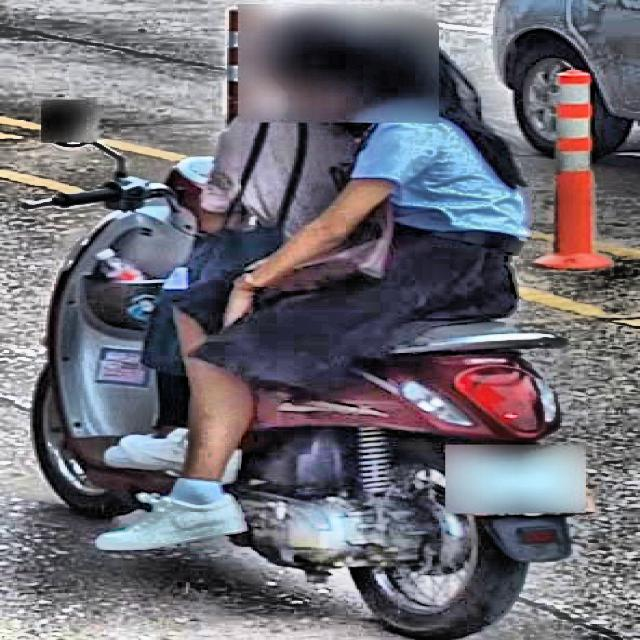motorcycle: (11, 114, 640, 640)
